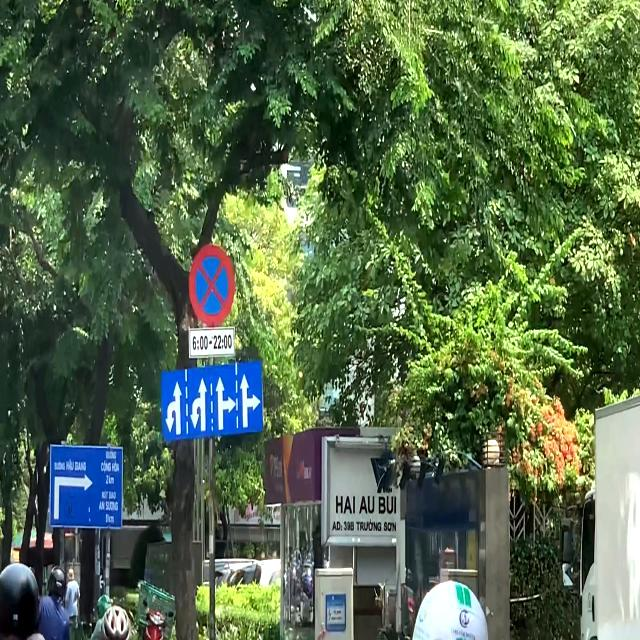Cam dung xe va do xe: (188, 244, 236, 327)
